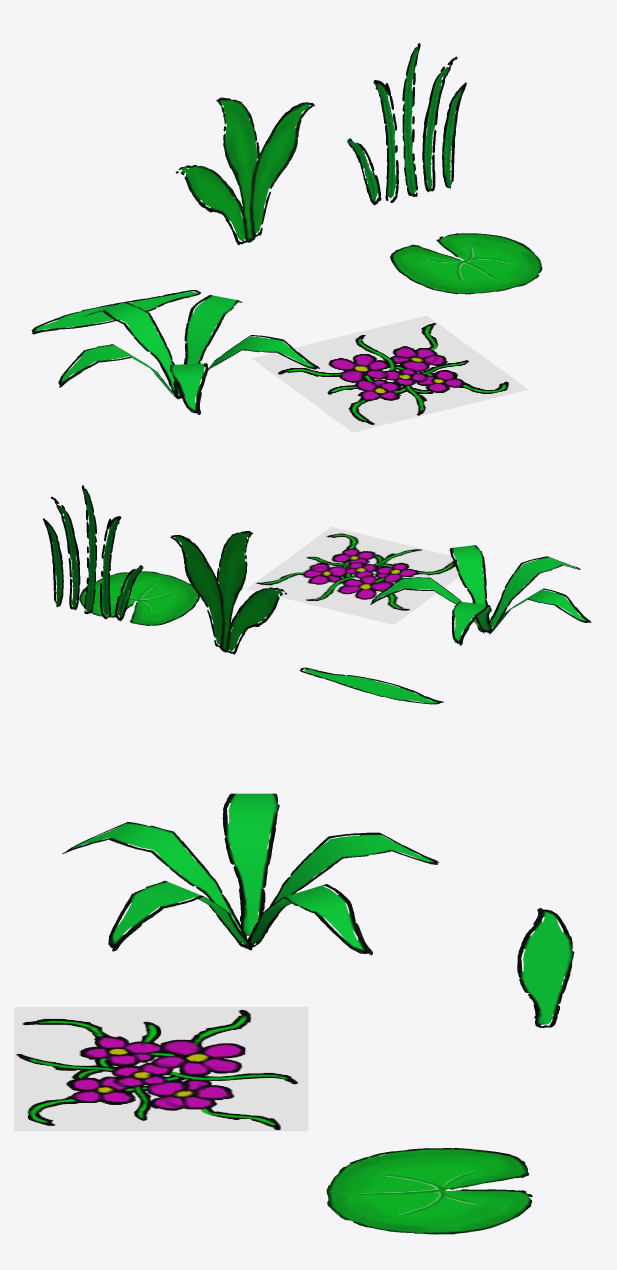
Rendered from Grass Pack.fbx.
The picture shows the model from 3 angles, top to bottom: view 1: azimuth 30°, elevation 25°; view 2: azimuth 150°, elevation 25°; view 3: azimuth 270°, elevation 25°; orthographic projection. The views are drawn at different scales.
Parts seen in each view (by area): view 1: Plane_001, Plane, Plane_009, Plane_002, Plane_005, Plane_006, Plane_003, Plane_008, Plane_007, Plane_004; view 2: Plane_001, Plane, Plane_002, Plane_009, Plane_003, Plane_007, Plane_008, Plane_005, Plane_006, Plane_004; view 3: Plane_001, Plane_009, Plane_004, Plane_003, Plane_008, Plane_005, Plane_006, Plane_007.
Boxes of the visible parts, x1,y1,x2,y2 form: Plane_001: (252,315,528,432); Plane: (175,97,314,245); Plane_009: (390,233,542,294); Plane_002: (347,43,466,205); Plane_005: (82,302,180,398); Plane_006: (184,295,242,396); Plane_003: (31,290,200,334); Plane_008: (170,363,208,414); Plane_007: (201,335,319,378); Plane_004: (58,344,178,399); Plane_001: (247,526,459,624); Plane: (170,531,286,654); Plane_002: (43,485,143,620); Plane_009: (79,571,199,625); Plane_003: (299,667,443,704); Plane_007: (448,545,487,632); Plane_008: (487,556,580,632); Plane_005: (451,601,492,645); Plane_006: (370,577,484,633); Plane_004: (489,588,591,634); Plane_001: (14,1007,308,1131); Plane_009: (326,1148,532,1234); Plane_004: (222,793,279,941); Plane_003: (517,908,574,1027); Plane_008: (62,822,247,947); Plane_005: (247,832,439,946); Plane_006: (245,884,372,955); Plane_007: (108,880,252,951).
Bounding box in the file's own units: 6.47 × 2.05 × 4.
